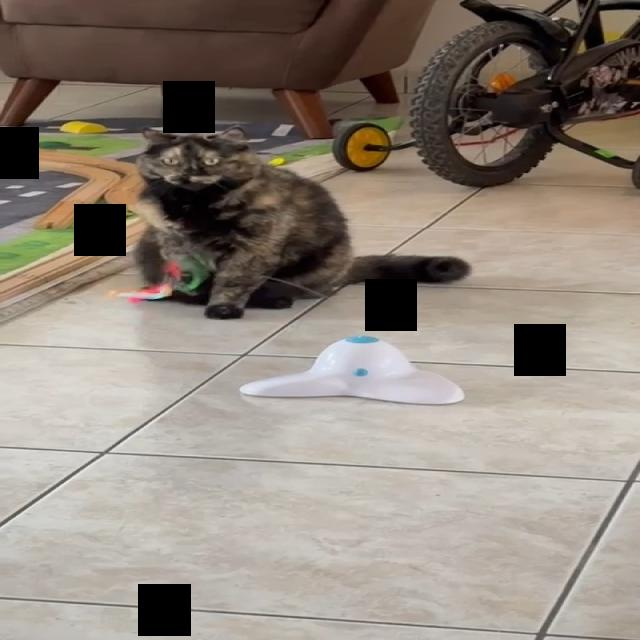authorized: (128, 125, 472, 319)
